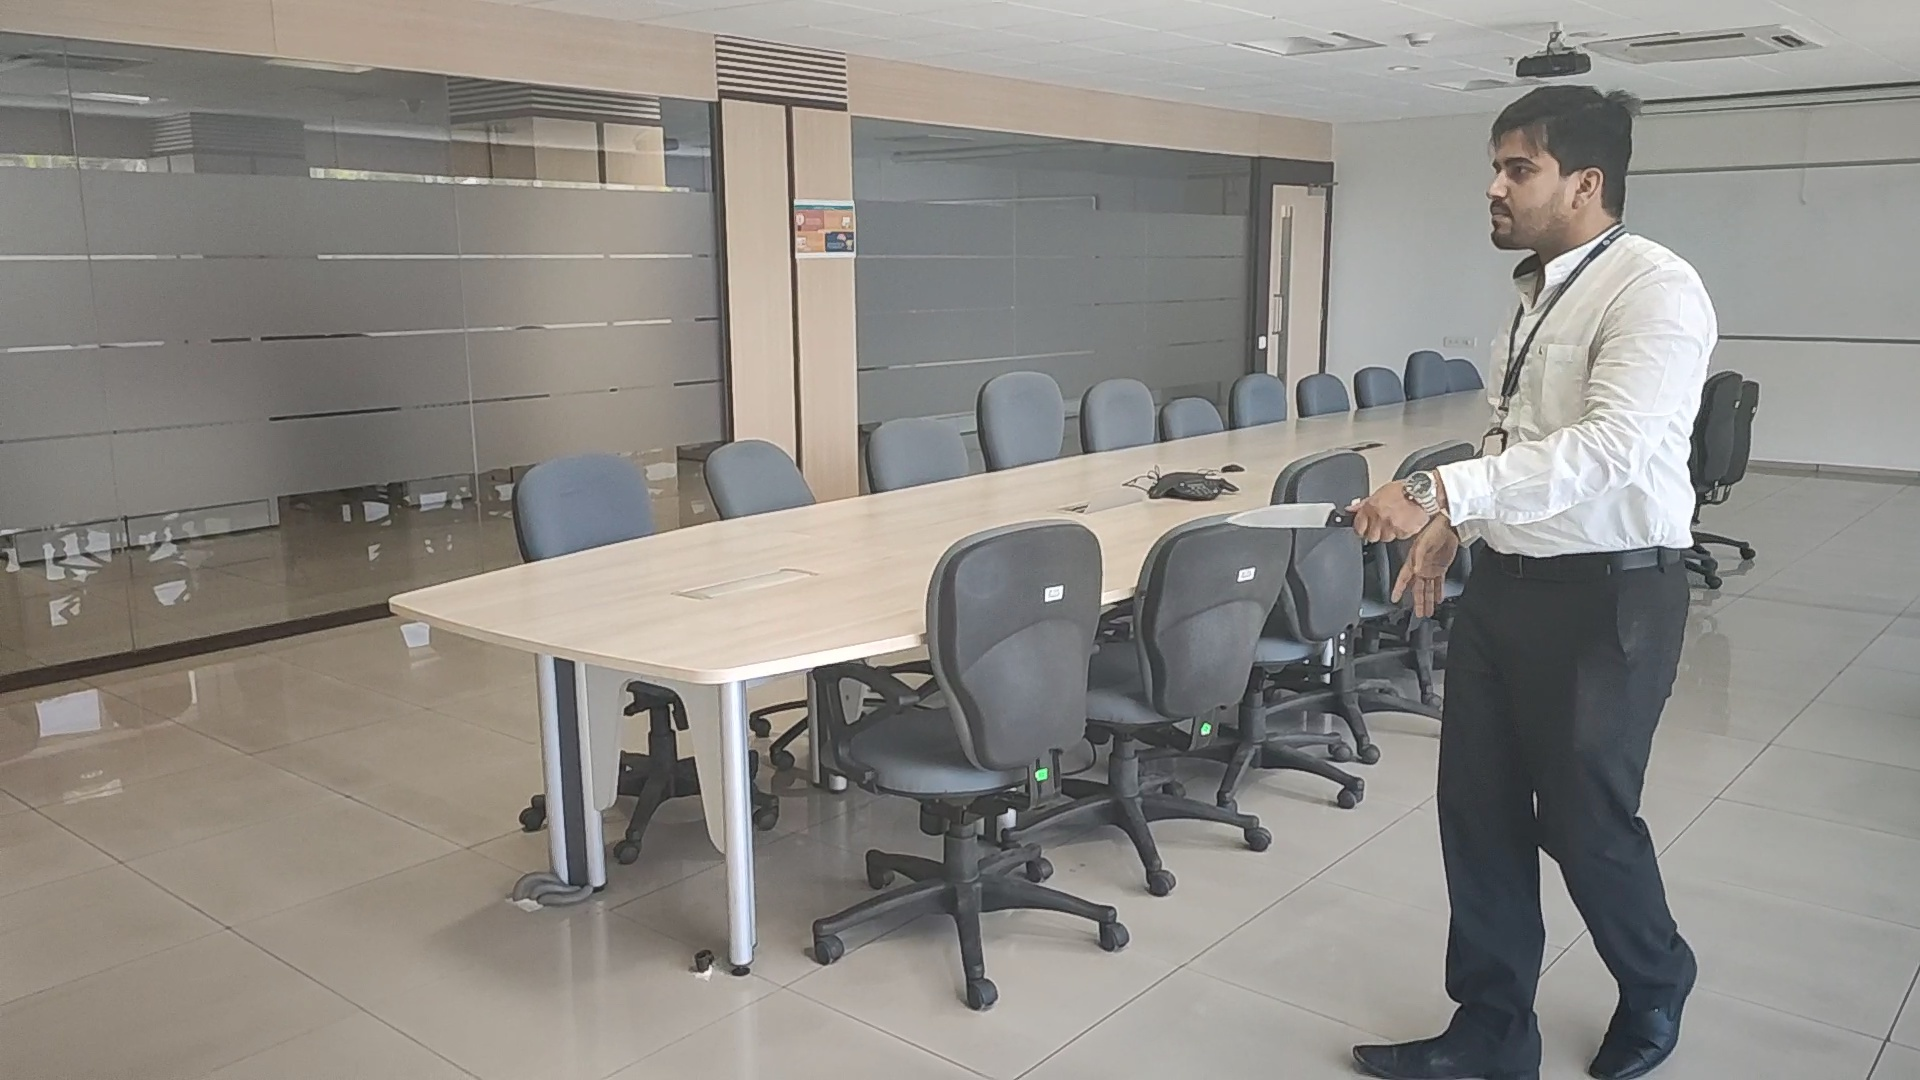knife: (1221, 502, 1342, 529)
